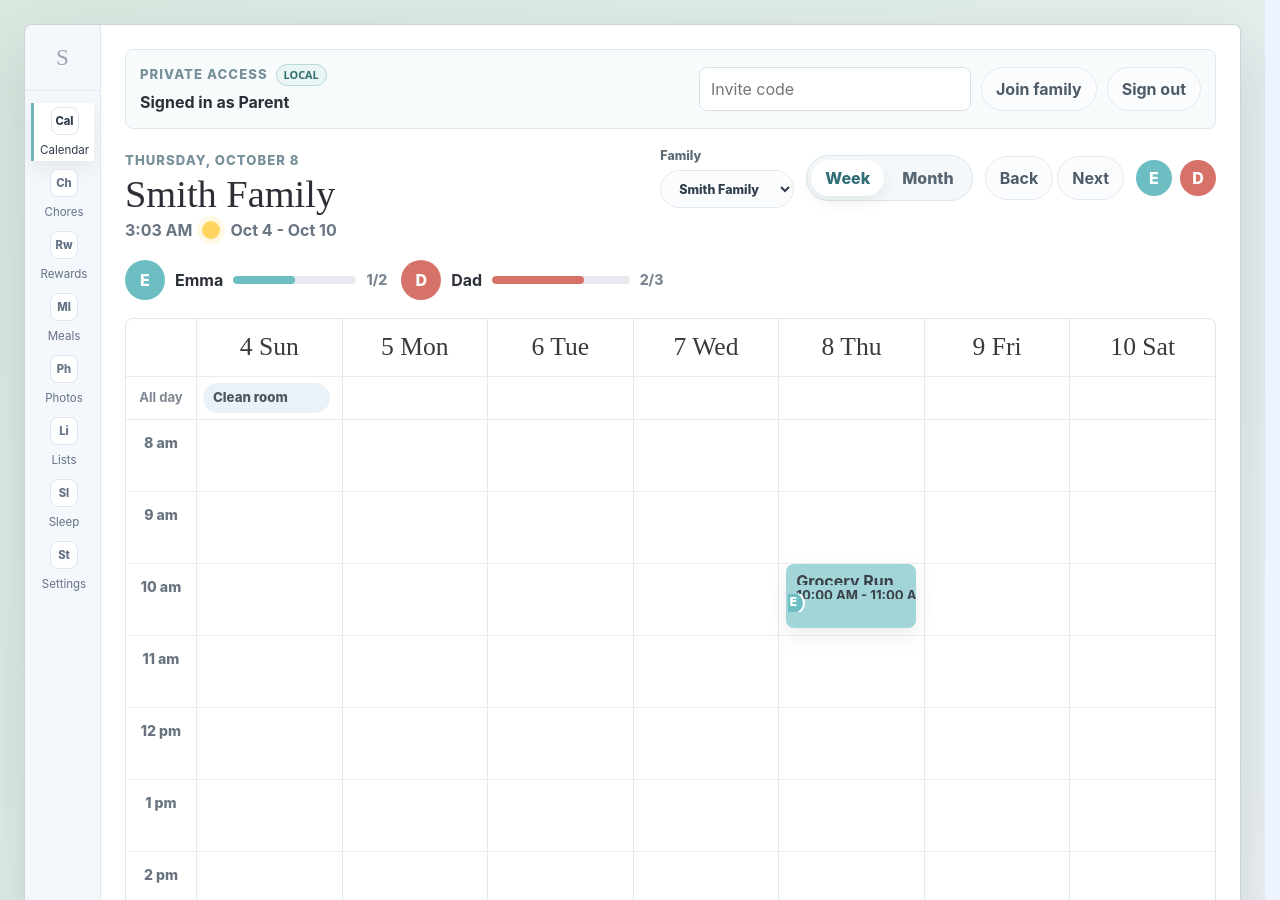
App › renders settings forms for creating families and members
Expected: the heading "Smith Family" is shown, [125,175,337,214]
Click the button "St Settings": (62, 566) [31,537,94,595]
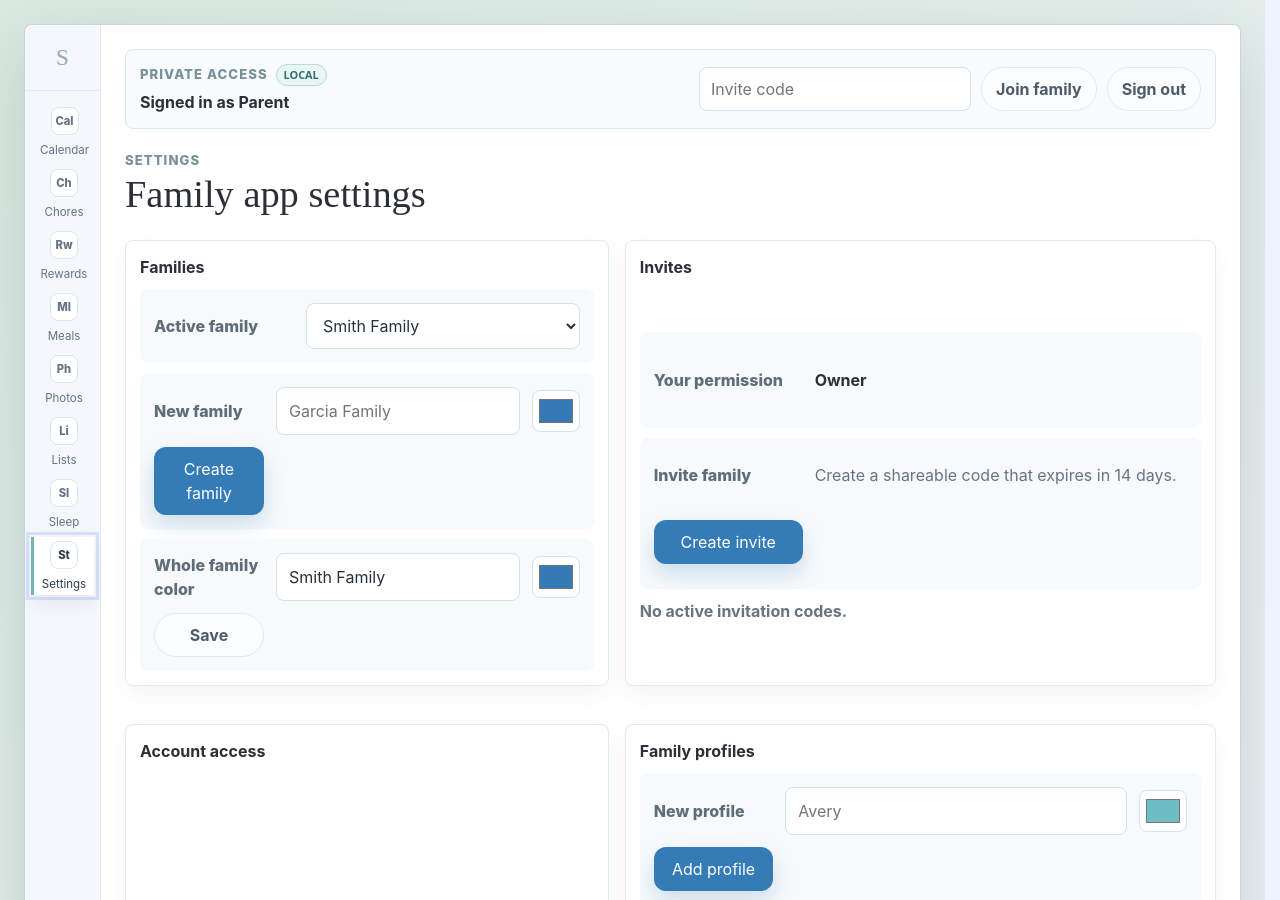
Result: the heading "Family app settings" is shown at [125,173,426,215]
Result: the field with placeholder "Garcia Family" is shown at [276,387,520,435]
Result: the field with placeholder "Avery" is shown at [785,787,1127,835]
